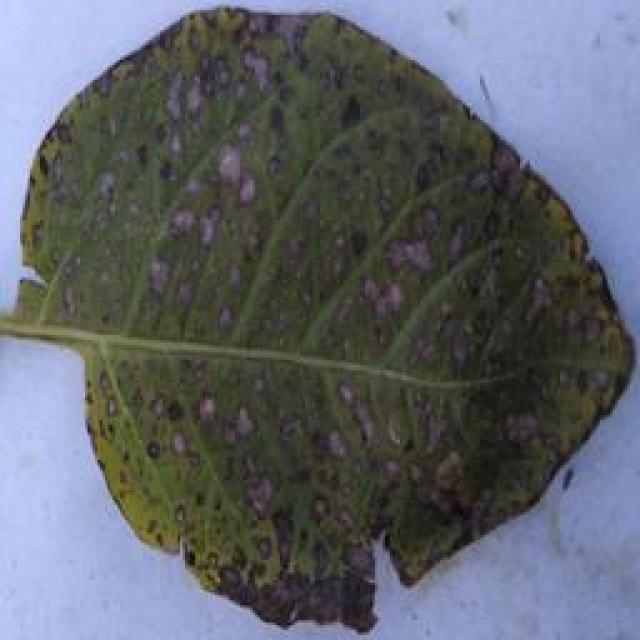Potato_Early_Blight: (18, 5, 635, 640)
